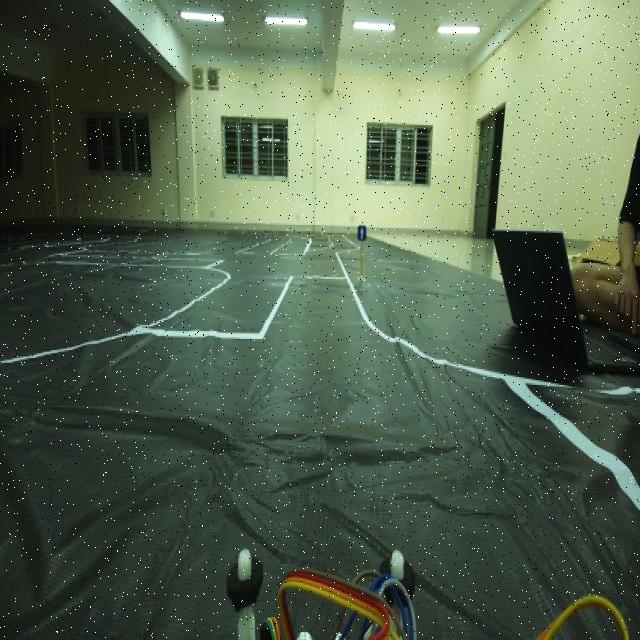onewayroad: (352, 216, 371, 250)
